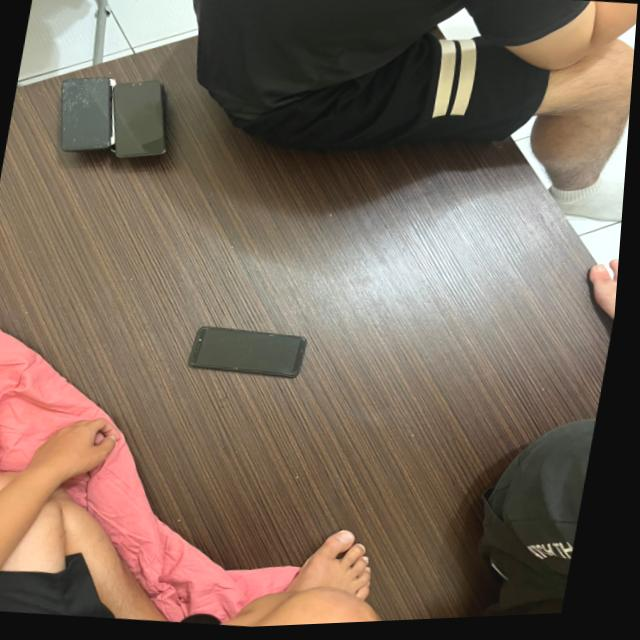Smartphone: (181, 318, 324, 392), (92, 72, 185, 173), (52, 74, 125, 157)
